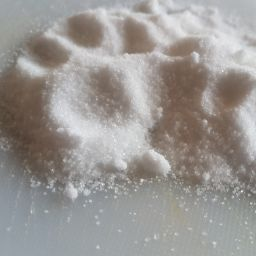Sugar: (20, 1, 256, 215), (5, 4, 256, 200), (1, 10, 126, 224), (44, 46, 228, 145)
